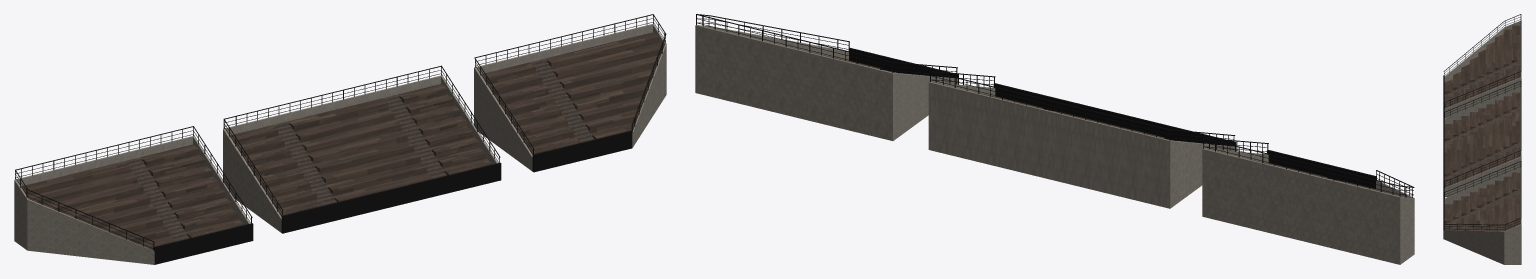
File: Stand_D.FBX
The picture shows the model from 3 angles, left to right: view 1: azimuth 30°, elevation 25°; view 2: azimuth 150°, elevation 25°; view 3: azimuth 270°, elevation 25°; orthographic projection. The views are drawn at different scales.
Visible parts, largest first — view 1: Stand_D_Step_Floor, Stand_D_Wall, Stand_D_Steps, Stand_D_Railing; view 2: Stand_D_Wall, Stand_D_Railing, Stand_D_Step_Floor; view 3: Stand_D_Step_Floor, Stand_D_Wall, Stand_D_Railing, Stand_D_Steps.
Part boxes in pixels (x1,y1,x2,y2): Stand_D_Step_Floor: (21, 32, 663, 249); Stand_D_Wall: (14, 24, 666, 264); Stand_D_Steps: (125, 58, 594, 241); Stand_D_Railing: (15, 14, 666, 250); Stand_D_Wall: (695, 25, 1414, 264); Stand_D_Railing: (696, 14, 1414, 197); Stand_D_Step_Floor: (791, 47, 1390, 193); Stand_D_Step_Floor: (1444, 25, 1520, 230); Stand_D_Wall: (1443, 20, 1521, 264); Stand_D_Railing: (1443, 14, 1521, 230); Stand_D_Steps: (1444, 60, 1520, 225).
Bounding box in the file's own units: 56268 × 6009 × 9085.
